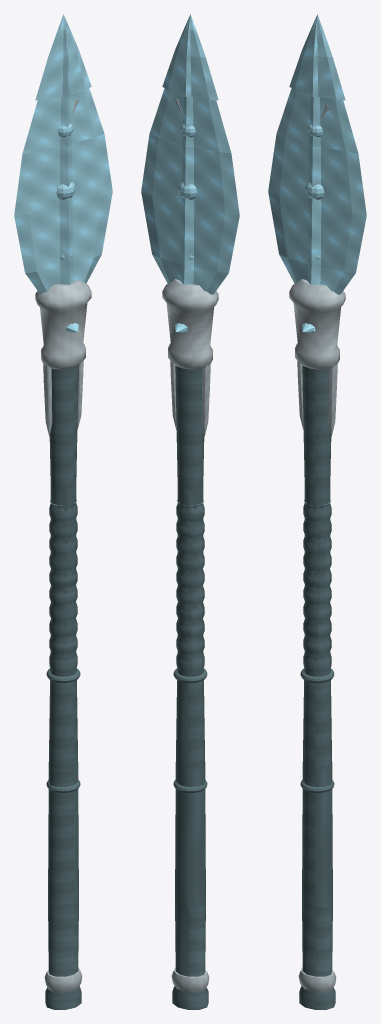
The model's file is underworld-weapon-rimesilver-spear.glb.
The picture shows the model from 3 angles, left to right: view 1: azimuth 30°, elevation 25°; view 2: azimuth 150°, elevation 25°; view 3: azimuth 330°, elevation 25°; orthographic projection.
Parts seen in each view (by area): view 1: spearhead, shaft, grip-wrap, socket, spear-tip, butt-cap, rime/grip-laminate-1; view 2: spearhead, shaft, grip-wrap, socket, spear-tip, butt-cap, rime/grip-laminate-1; view 3: spearhead, shaft, grip-wrap, socket, spear-tip, butt-cap, rime/grip-laminate-1.
Boxes of the visible parts, x1,y1,x2,y2 form: spearhead: (14, 88, 112, 294); shaft: (45, 365, 81, 1009); grip-wrap: (49, 500, 77, 672); socket: (35, 279, 91, 369); spear-tip: (35, 14, 91, 100); butt-cap: (43, 361, 83, 992); rime/grip-laminate-1: (46, 668, 80, 682); spearhead: (141, 88, 239, 294); shaft: (172, 365, 208, 1009); grip-wrap: (176, 500, 204, 672); socket: (162, 279, 218, 369); spear-tip: (162, 14, 218, 100); butt-cap: (170, 361, 210, 992); rime/grip-laminate-1: (173, 668, 207, 682); spearhead: (268, 88, 366, 294); shaft: (299, 365, 335, 1009); grip-wrap: (303, 500, 331, 672); socket: (289, 279, 345, 369); spear-tip: (289, 14, 345, 100); butt-cap: (297, 361, 337, 992); rime/grip-laminate-1: (300, 668, 334, 682).
Size of the model in its own units: 0.2064 by 1.98 by 0.108.
3 materials, 3 textured.
